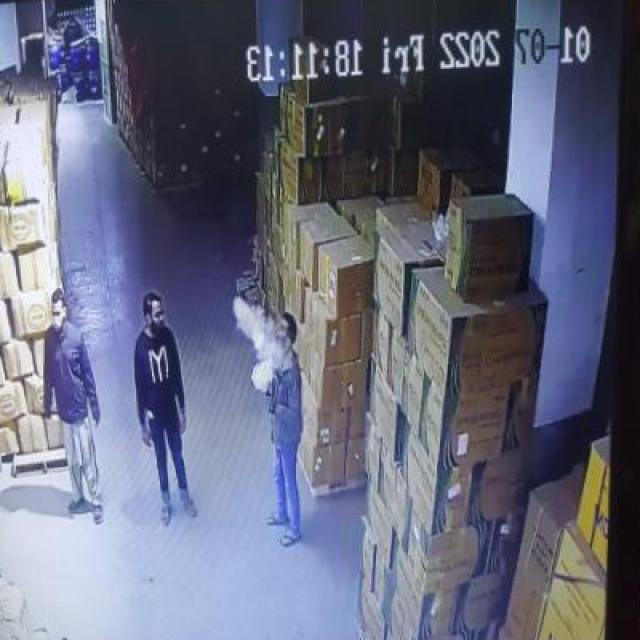fire: (232, 286, 283, 392)
